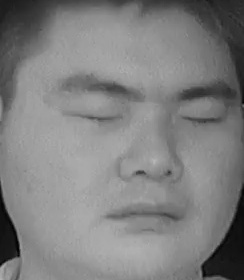blink: (67, 96, 124, 131), (178, 100, 226, 134)
mouth: (104, 194, 185, 241)
